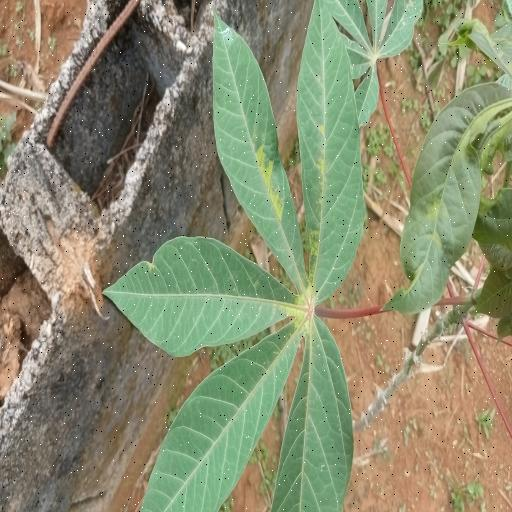Cassava_Healthy: (107, 0, 357, 512)
